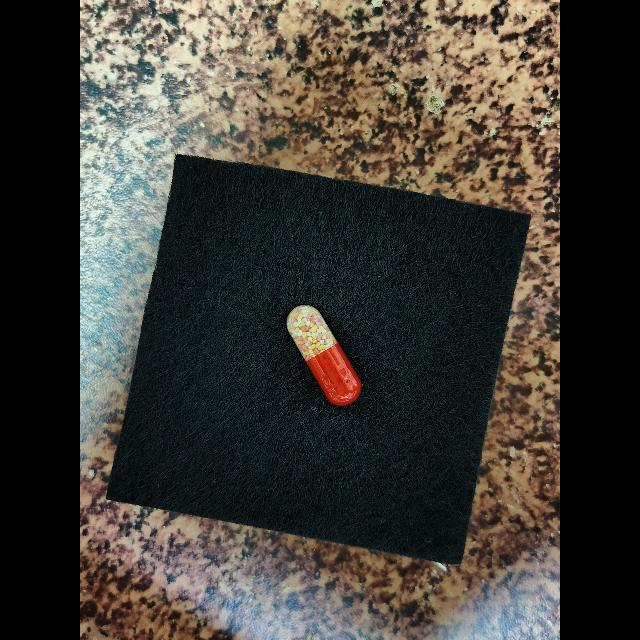Intact Capsule: (286, 305, 361, 406)
